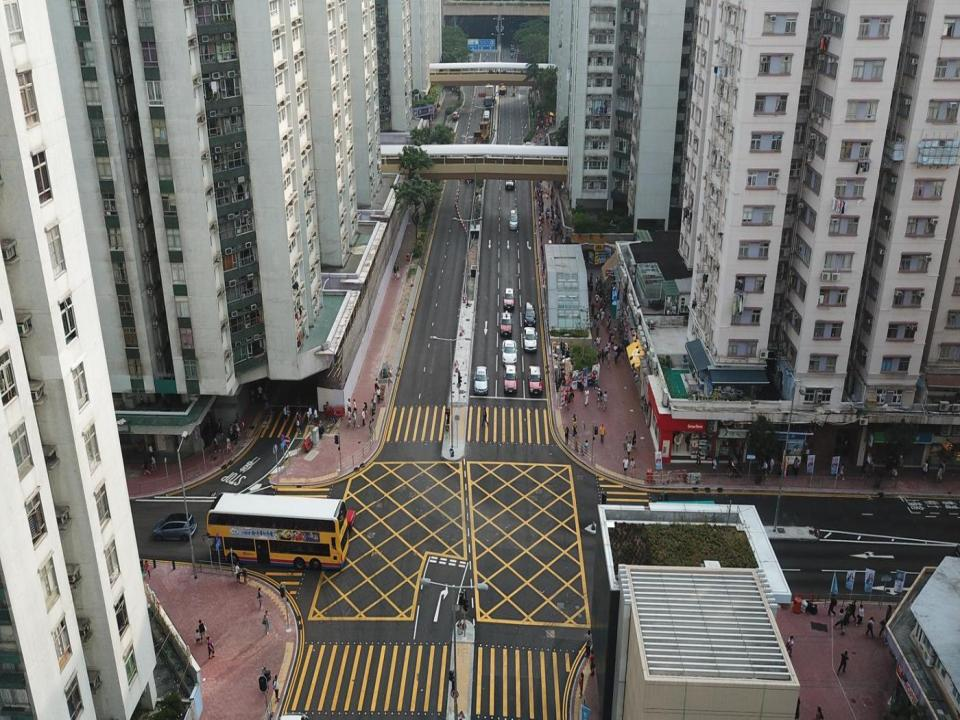bus: (202, 493, 349, 571)
car: (153, 513, 197, 542), (324, 509, 356, 528), (501, 337, 517, 368), (472, 366, 489, 394), (527, 364, 542, 393), (522, 326, 537, 351), (504, 364, 516, 392), (500, 310, 512, 334), (503, 286, 515, 310), (506, 168, 514, 190), (499, 80, 507, 94), (482, 110, 490, 122), (452, 110, 459, 121), (510, 26, 516, 38), (509, 16, 515, 28), (510, 41, 516, 52)
truck: (478, 117, 490, 140), (473, 130, 482, 157), (484, 84, 494, 107)
van: (524, 301, 537, 326), (508, 208, 519, 231)
